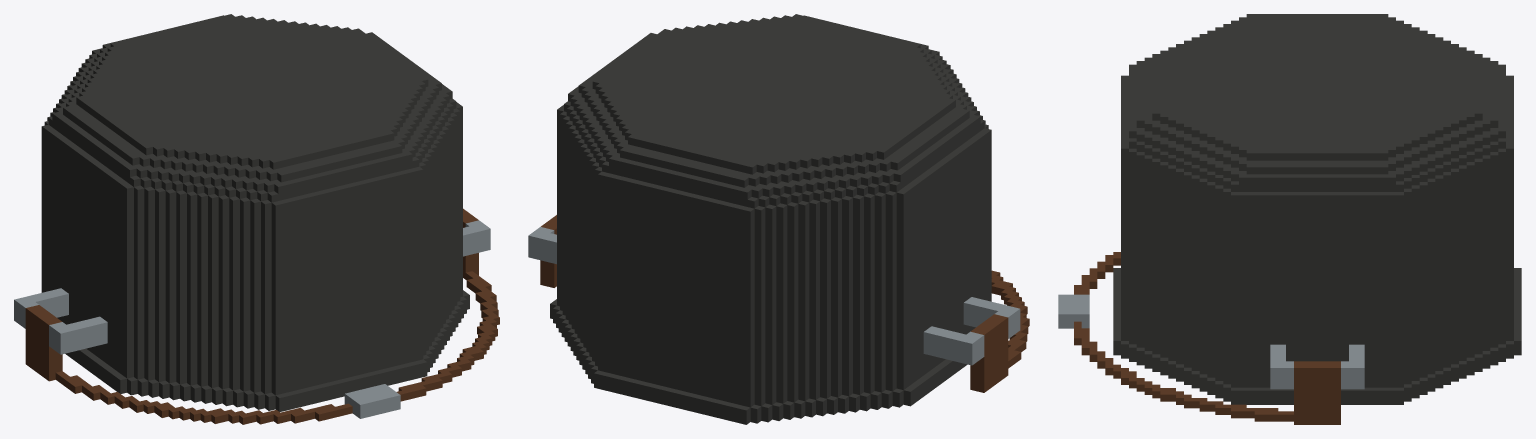
Rendered from pot_helmet.glb.
The picture shows the model from 3 angles, left to right: view 1: azimuth 30°, elevation 25°; view 2: azimuth 150°, elevation 25°; view 3: azimuth 270°, elevation 25°; orthographic projection. The views are drawn at different scales.
Parts seen in each view (by area): view 1: pot_helmet:compound; view 2: pot_helmet:compound; view 3: pot_helmet:compound.
Part boxes in pixels (bbox=[...]): pot_helmet:compound: bbox=[14, 14, 499, 424]; pot_helmet:compound: bbox=[528, 14, 1029, 424]; pot_helmet:compound: bbox=[1058, 14, 1521, 424].
Bounding box in the file's own units: 0.256 × 0.132 × 0.236.
